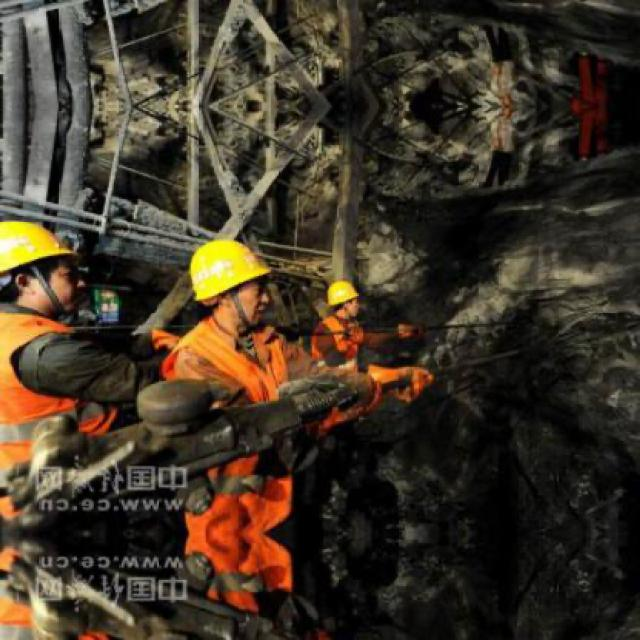con casco: (169, 232, 278, 334), (0, 212, 101, 308), (308, 265, 404, 319)
